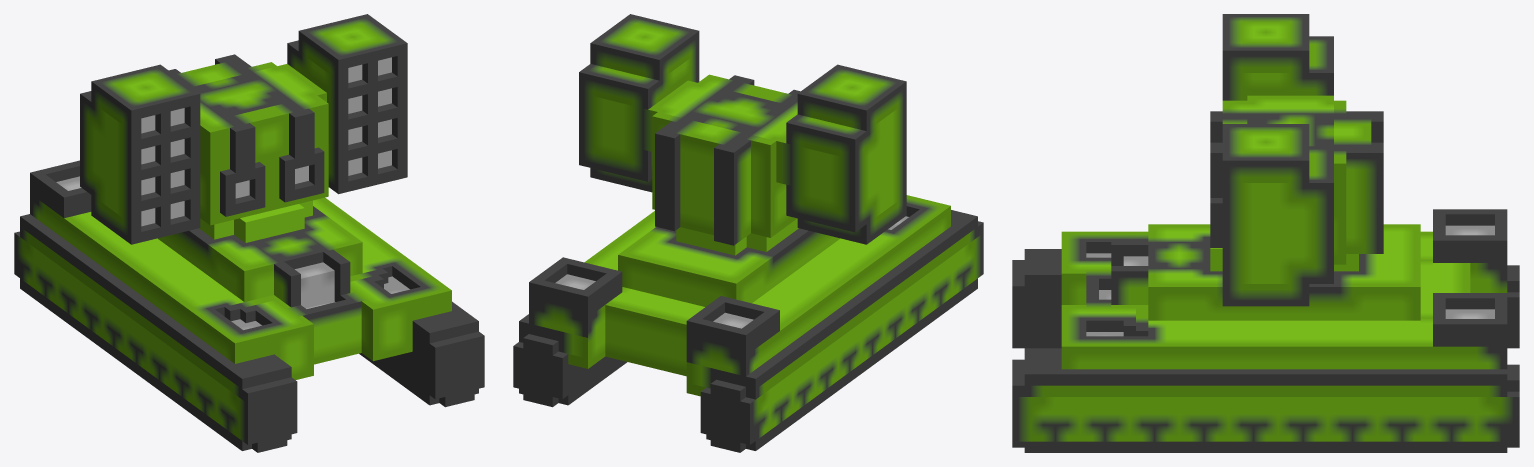
The model's file is Tank_3.fbx.
3 views of the same model, side by side, from view 1: azimuth 30°, elevation 25°; view 2: azimuth 150°, elevation 25°; view 3: azimuth 270°, elevation 25° (orthographic). The views are drawn at different scales.
Parts seen in each view (by area): view 1: Matrix_6, Matrix_7; view 2: Matrix_6, Matrix_7; view 3: Matrix_6, Matrix_7.
Part boxes in pixels (<box>): Matrix_6: <box>14,160,484,452</box>; Matrix_7: <box>80,14,407,244</box>; Matrix_6: <box>513,195,983,452</box>; Matrix_7: <box>579,14,906,245</box>; Matrix_6: <box>1012,209,1519,452</box>; Matrix_7: <box>1210,14,1383,306</box>.
Size of the model in its own units: 28 by 27 by 41.
